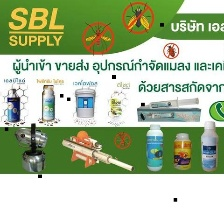insecticide: (199, 118, 220, 174), (136, 105, 203, 122), (143, 122, 165, 173), (169, 132, 192, 171), (72, 87, 97, 121), (139, 97, 202, 110), (5, 87, 23, 123), (38, 87, 57, 120), (104, 95, 122, 119)
